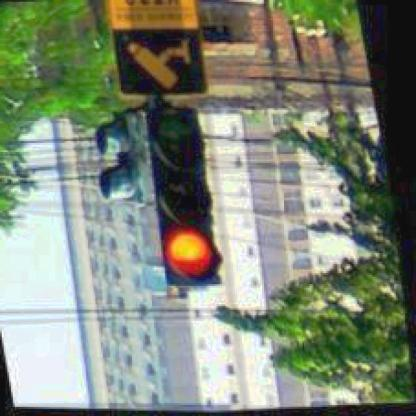Traffic Light -Red-: (140, 108, 234, 288)
